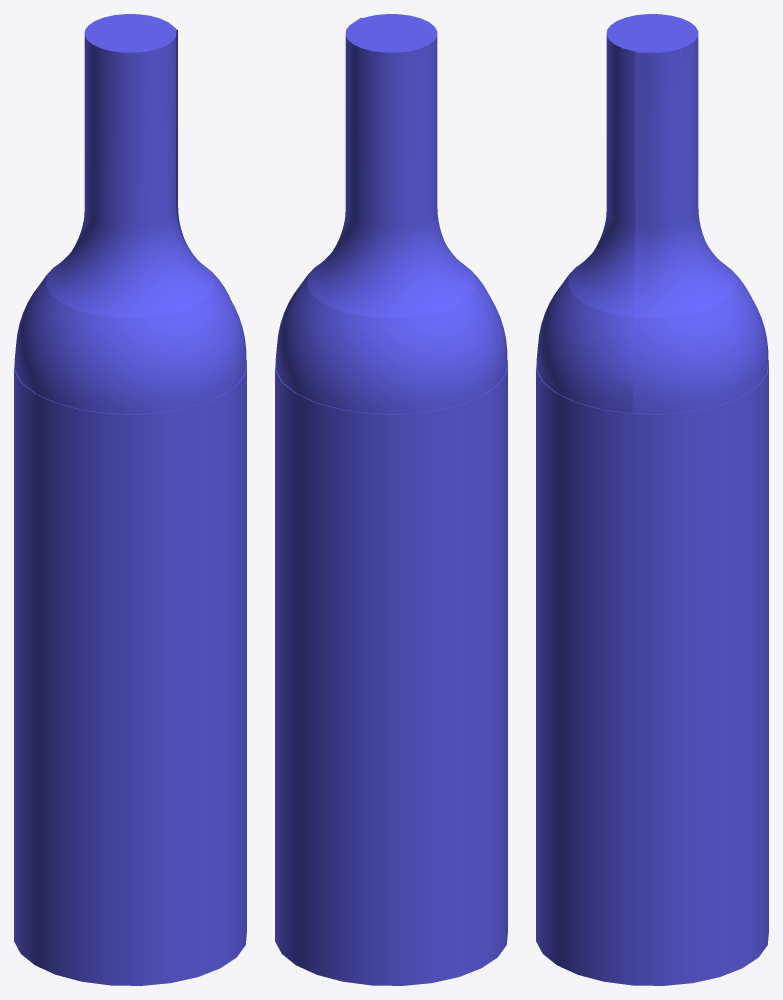
3 views of the same model, side by side, from view 1: azimuth 30°, elevation 25°; view 2: azimuth 150°, elevation 25°; view 3: azimuth 270°, elevation 25° (orthographic).
Parts seen in each view (by area): view 1: mesh1_mesh1-geometry; view 2: mesh1_mesh1-geometry; view 3: mesh1_mesh1-geometry.
Part boxes in pixels (x1,y1,x2,y2): mesh1_mesh1-geometry: (14, 14, 246, 985); mesh1_mesh1-geometry: (275, 14, 507, 985); mesh1_mesh1-geometry: (536, 14, 768, 985).
Bounding box in the file's own units: 0.2219 × 0.9495 × 0.2219.
